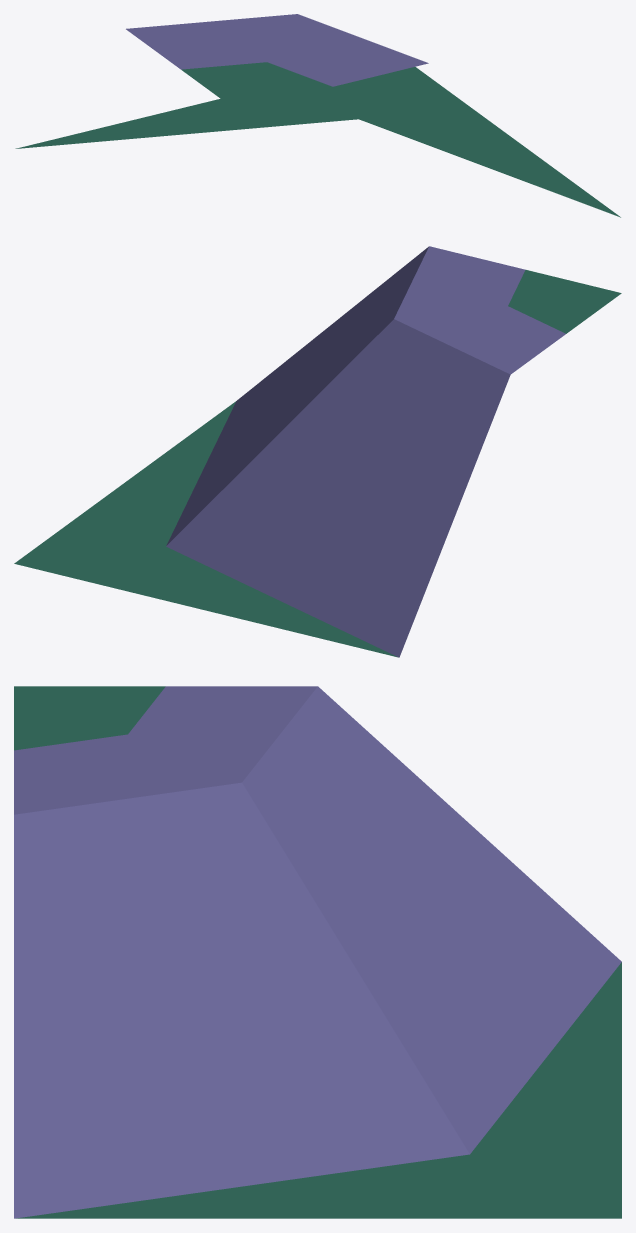
File: cliff-2.glb
3 renders of one model, top to bottom at view 1: azimuth 30°, elevation 25°; view 2: azimuth 150°, elevation 25°; view 3: azimuth 270°, elevation 25°, orthographic. The views are drawn at different scales.
Visible parts, largest first — view 1: terrain_sideCorner; view 2: terrain_sideCorner; view 3: terrain_sideCorner.
Part boxes in pixels (box(x1,y1,x2,y2)): terrain_sideCorner: box(15, 14, 620, 217); terrain_sideCorner: box(14, 246, 621, 657); terrain_sideCorner: box(14, 686, 621, 1218).
Bounding box in the file's own units: 1 × 0.5 × 1.
